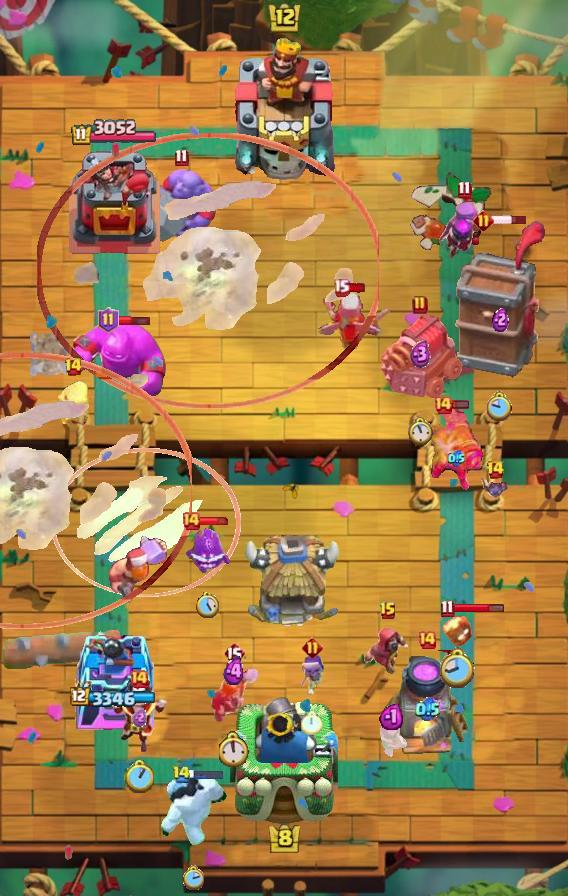archer-queen: (140, 166, 222, 254)
barbarian-barrel: (480, 476, 510, 500)
bat-evolution: (55, 379, 91, 429)
bomber: (442, 614, 474, 648)
bowler: (364, 625, 412, 677)
cannon: (372, 714, 410, 760)
clone: (66, 318, 174, 400)
dart-goblin: (455, 220, 546, 378)
electro-spirit: (223, 657, 246, 687), (379, 702, 403, 730), (415, 698, 440, 723), (410, 339, 431, 368), (492, 306, 509, 332), (447, 450, 465, 467), (133, 708, 147, 727)
elixir: (440, 647, 476, 690), (219, 731, 249, 767), (124, 759, 154, 792), (487, 391, 513, 421), (408, 418, 433, 447), (196, 592, 219, 618), (182, 866, 204, 891), (301, 711, 323, 735)
emote: (451, 602, 504, 613), (116, 314, 151, 327), (491, 214, 528, 226), (188, 768, 224, 779), (199, 516, 231, 526), (349, 282, 368, 294), (450, 399, 469, 410)
fisherman: (26, 330, 70, 376)
goblin: (297, 654, 327, 696)
golem: (377, 310, 463, 402)
hog-rider: (207, 664, 261, 724)
hunter: (382, 650, 472, 758)
ice-wizard: (51, 447, 241, 596)
king-tower: (228, 35, 340, 181), (230, 692, 338, 826)
lumberjack: (108, 679, 170, 755)
mega-minion: (428, 401, 484, 493)
mighty-miner: (106, 536, 170, 606)
minion: (0, 629, 124, 669)
poison: (310, 284, 398, 358)
prince: (242, 535, 344, 631)
queen-tower: (64, 146, 164, 256), (73, 623, 155, 731)
rage: (157, 775, 229, 847)
rascal-girl: (436, 201, 492, 265)
royal-ghost: (37, 133, 379, 409), (0, 353, 192, 629)
selected: (70, 119, 158, 147), (70, 687, 158, 709)
spear-goblin: (183, 526, 231, 578)
text: (98, 307, 119, 333), (223, 641, 245, 665), (474, 210, 495, 231), (302, 637, 323, 658), (433, 395, 453, 415), (181, 511, 201, 531), (417, 630, 437, 650), (129, 669, 149, 689), (65, 357, 84, 377), (486, 460, 505, 480), (173, 764, 192, 783), (379, 601, 397, 621), (334, 279, 351, 298), (412, 295, 428, 315), (175, 148, 190, 167), (456, 181, 471, 200), (440, 598, 455, 617)
